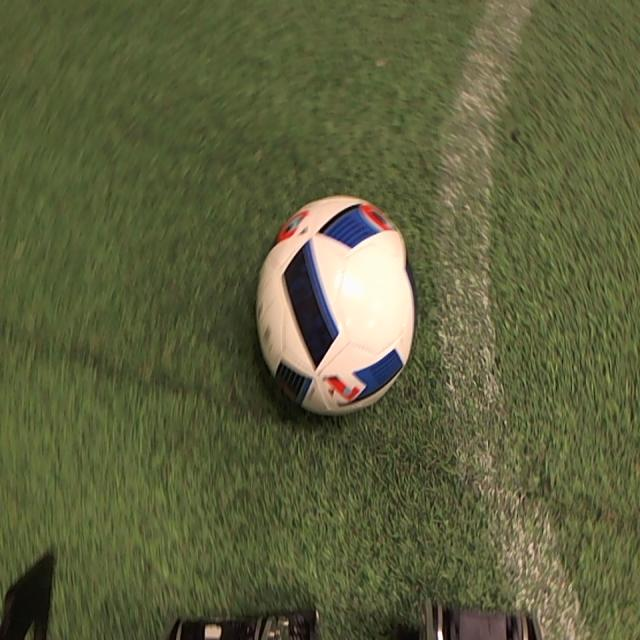ball: (256, 195, 417, 418)
